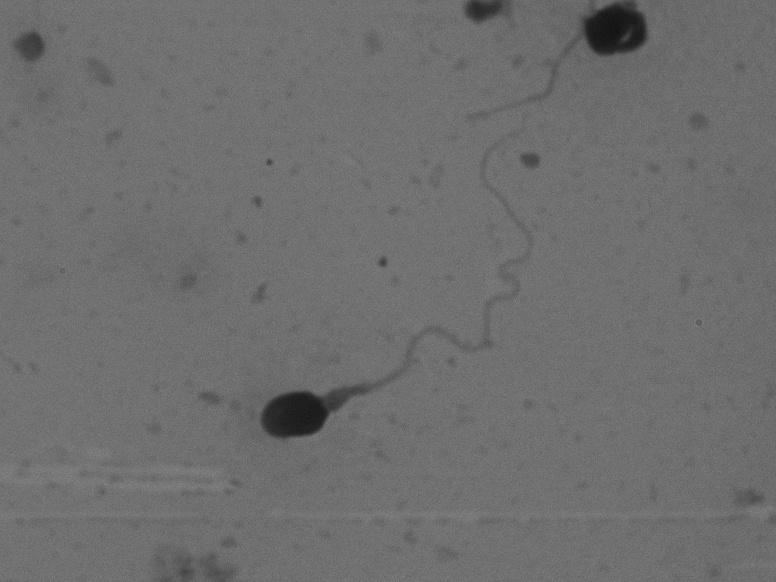Abnormal: (206, 107, 622, 490), (476, 3, 675, 115)
